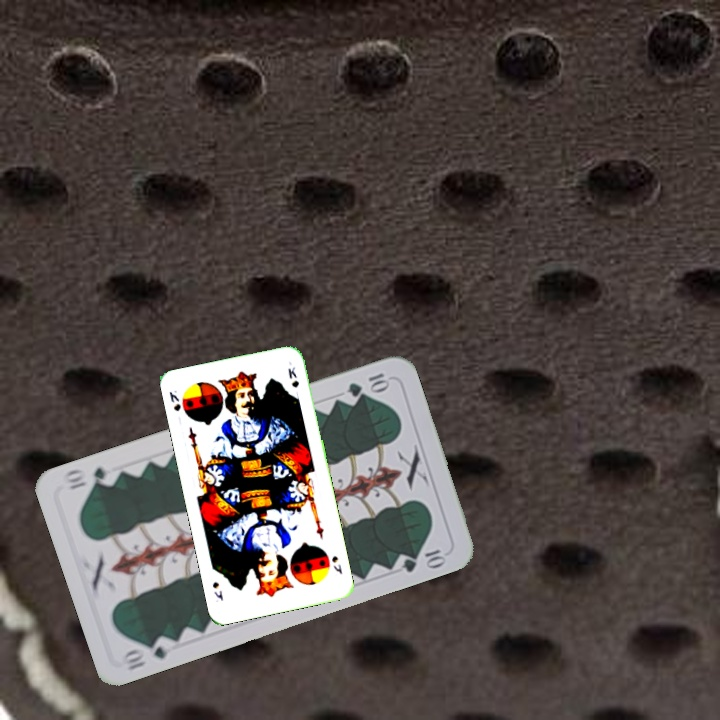G10: (120, 632, 174, 673), (343, 369, 393, 400)
SK: (165, 386, 183, 414), (327, 552, 345, 577)
